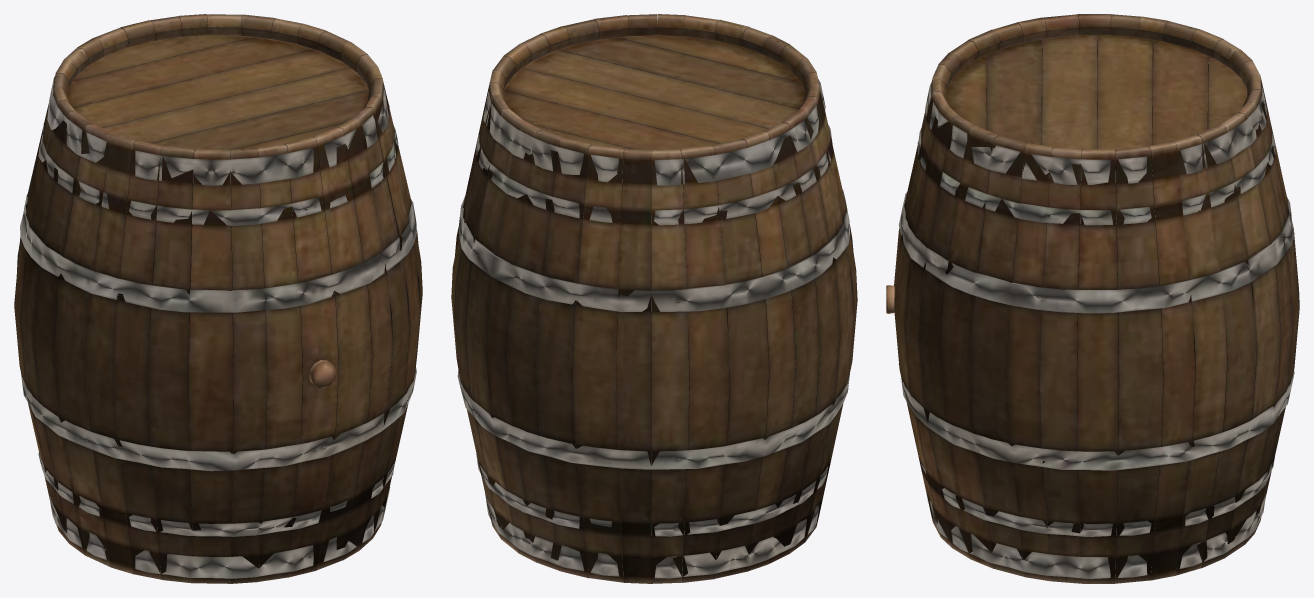
Rendered from wine-barrel.glb.
The picture shows the model from 3 angles, left to right: view 1: azimuth 30°, elevation 25°; view 2: azimuth 150°, elevation 25°; view 3: azimuth 270°, elevation 25°; orthographic projection.
Visible parts, largest first — view 1: wine_barrel_01_Lid; view 2: wine_barrel_01_Lid; view 3: wine_barrel_01_Lid.
Part boxes in pixels (bbox=[...]): wine_barrel_01_Lid: bbox=[14, 14, 422, 583]; wine_barrel_01_Lid: bbox=[451, 14, 857, 583]; wine_barrel_01_Lid: bbox=[886, 14, 1299, 583].
Bounding box in the file's own units: 0.7419 × 0.8695 × 0.7554.
Materials: 1 (1 with a texture image).
